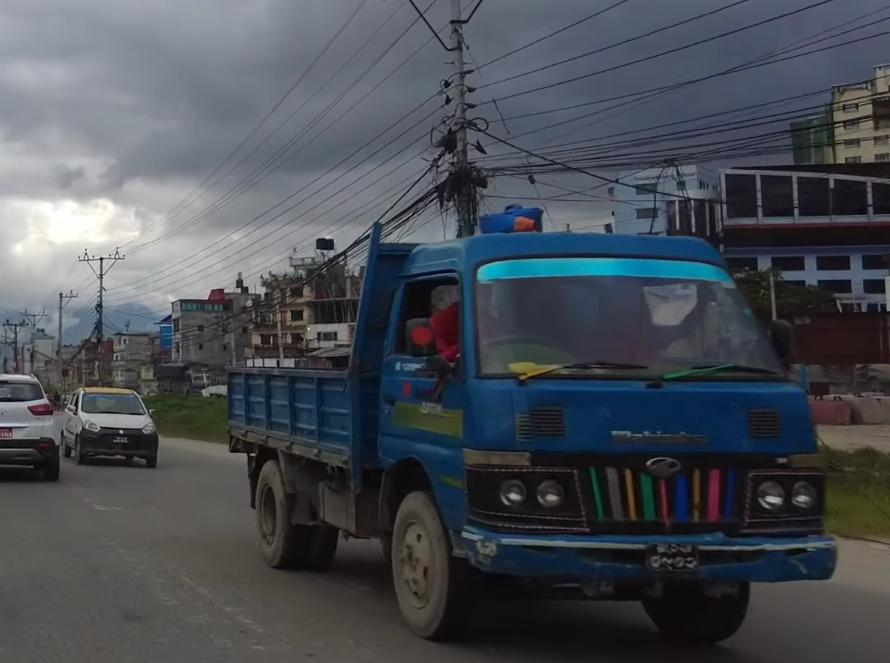car: (0, 363, 70, 494)
mini_truck: (218, 201, 841, 650)
taxi: (69, 376, 168, 483)
